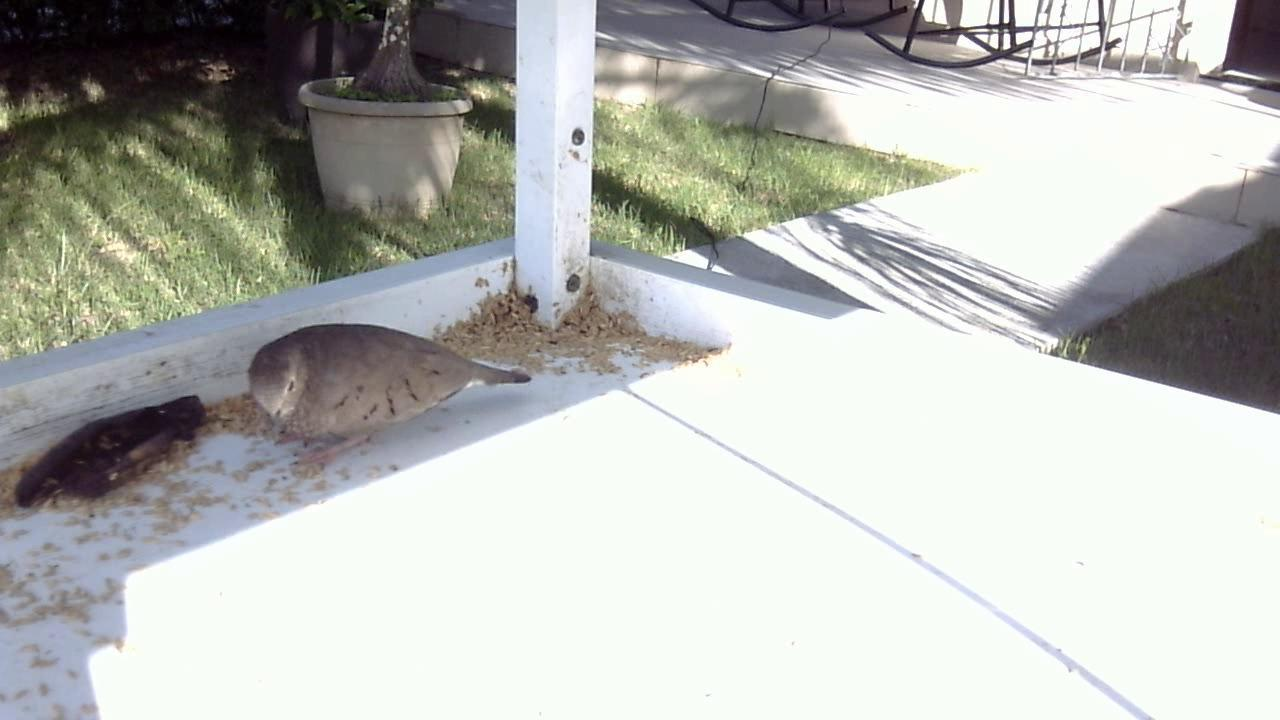rolinha: (239, 313, 535, 467)
